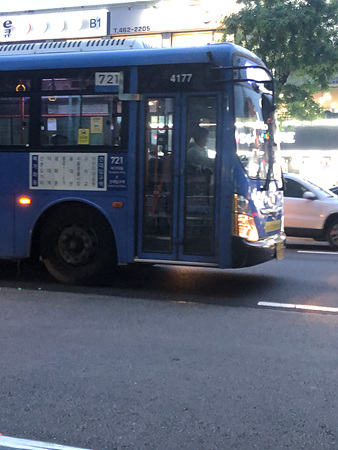entrance: (139, 89, 223, 264)
